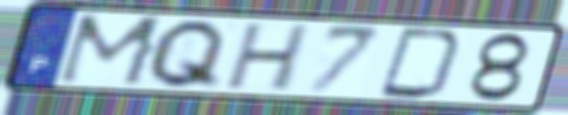7: (308, 22, 387, 98)
8: (467, 31, 533, 102)
D: (374, 24, 468, 101)
H: (221, 22, 315, 94)
M: (52, 12, 170, 89)
Q: (141, 17, 231, 92)
